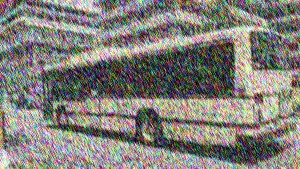bus: (37, 30, 292, 149)
